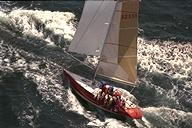sailboat: (61, 2, 146, 123)
water: (1, 1, 62, 127), (144, 2, 191, 126)
